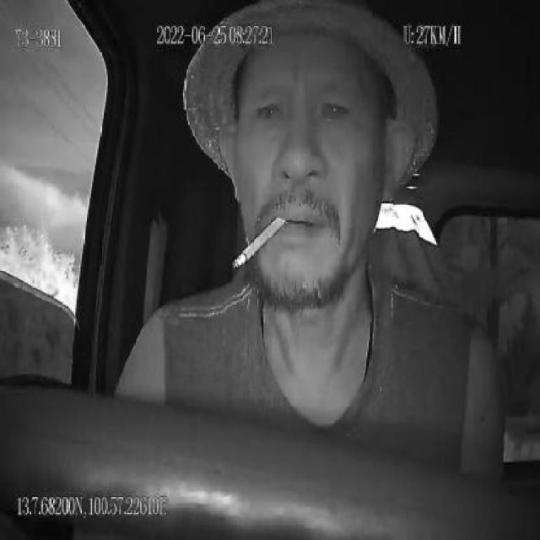smoking: (232, 215, 287, 268)
